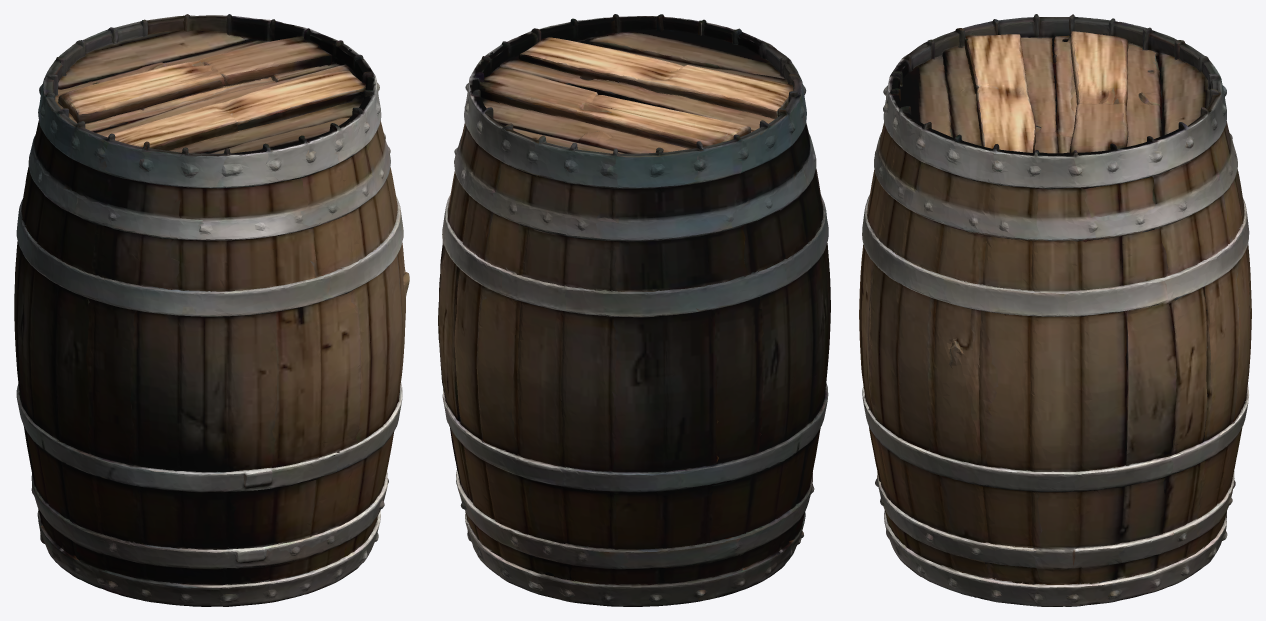
The model's file is blacksmith_water_barrel_01.glb.
3 renders of one model, left to right at view 1: azimuth 30°, elevation 25°; view 2: azimuth 150°, elevation 25°; view 3: azimuth 270°, elevation 25°, orthographic.
Parts seen in each view (by area): view 1: geometry_0; view 2: geometry_0; view 3: geometry_0.
Part boxes in pixels (x1,y1,x2,y2): geometry_0: [14, 14, 409, 606]; geometry_0: [438, 14, 830, 606]; geometry_0: [859, 14, 1251, 606].
Size of the model in its own units: 0.7709 by 1 by 0.7792.
1 material, 1 textured.
